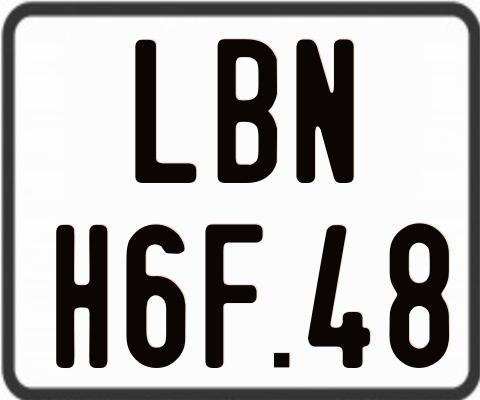4: (305, 224, 368, 368)
6: (125, 222, 189, 370)
8: (389, 222, 449, 369)
B: (217, 36, 277, 185)
F: (202, 224, 266, 372)
H: (54, 224, 109, 371)
L: (132, 37, 196, 185)
N: (295, 38, 354, 183)
